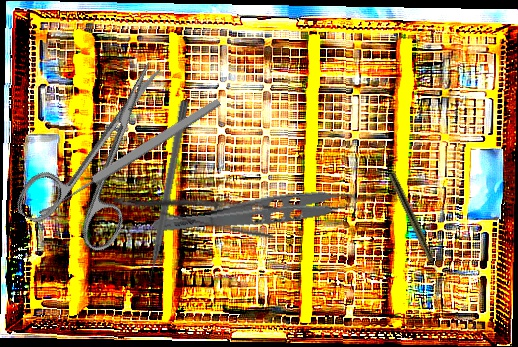Dressing Forceps: (110, 169, 280, 243)
Handpiece: (386, 171, 444, 280)
Iris Scissors: (10, 39, 204, 264)
Pusher: (141, 99, 190, 294)
Surgical Spoon: (36, 96, 223, 219)
Tissue Forceps: (151, 181, 367, 251)
